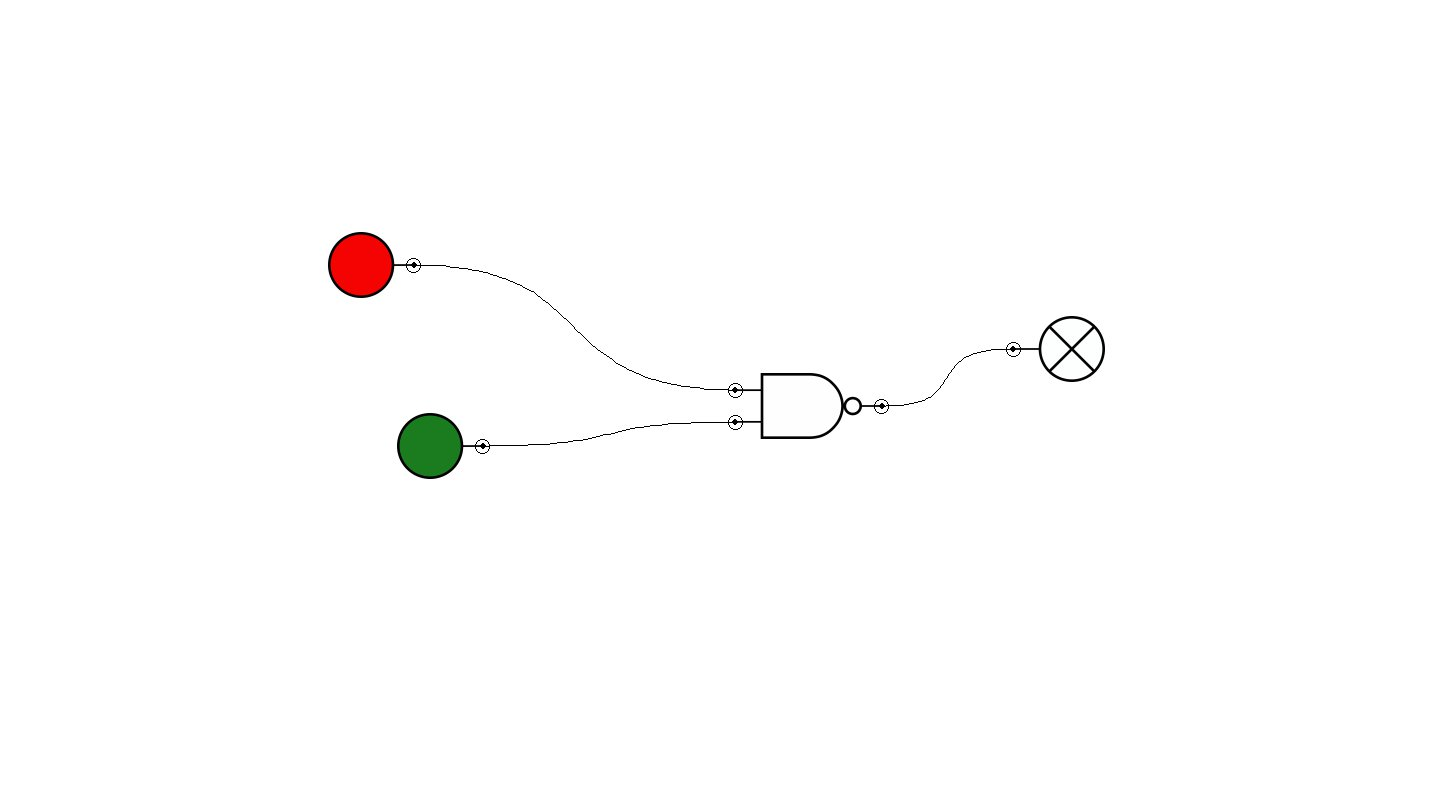bulb: (1006, 316, 1105, 382)
nand: (728, 373, 889, 439)
switch_False: (328, 232, 421, 298)
switch_True: (397, 413, 490, 479)
